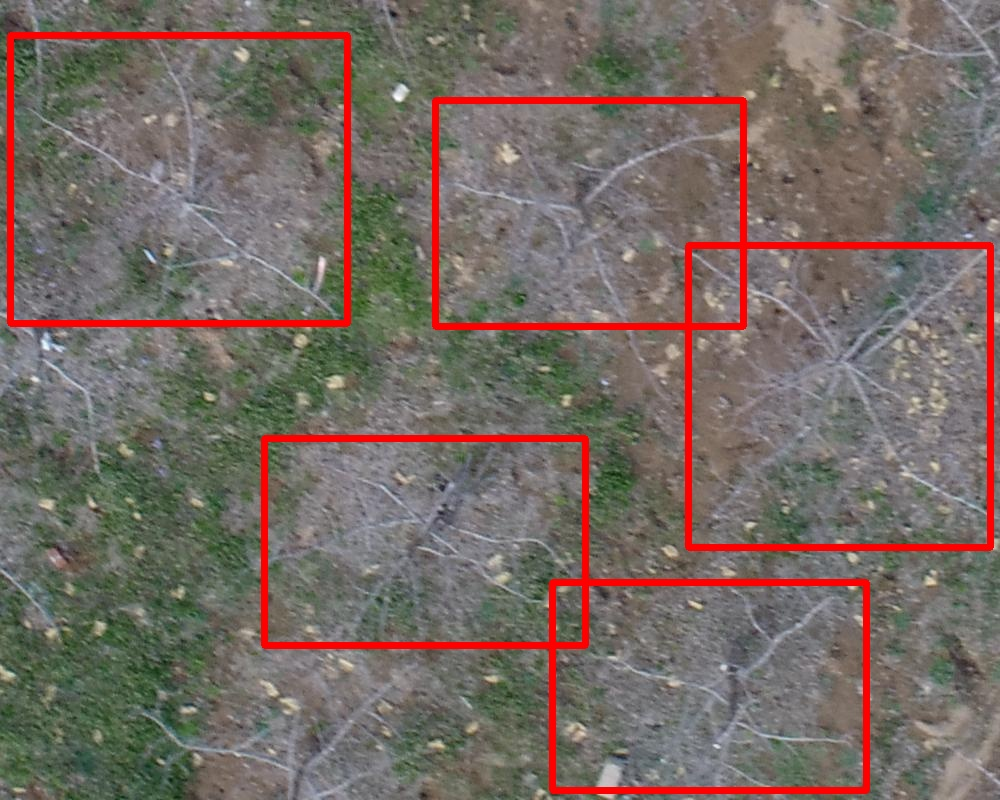apple: (10, 35, 347, 323), (688, 245, 990, 547), (435, 100, 743, 326), (264, 438, 585, 645), (552, 582, 866, 790)
